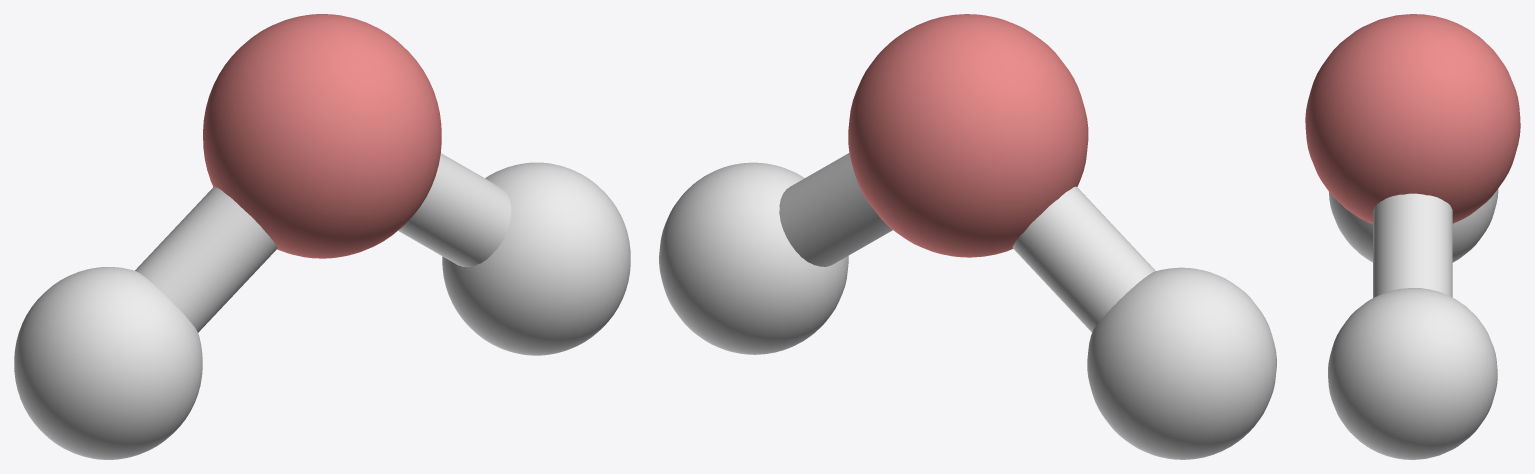
Rendered from Water.fbx.
3 views of the same model, side by side, from view 1: azimuth 30°, elevation 25°; view 2: azimuth 150°, elevation 25°; view 3: azimuth 270°, elevation 25° (orthographic). The views are drawn at different scales.
Visible parts, largest first — view 1: Oxygen; view 2: Oxygen; view 3: Oxygen.
Boxes of the visible parts, x1,y1,x2,y2 form: Oxygen: [14, 14, 630, 459]; Oxygen: [659, 14, 1276, 459]; Oxygen: [1305, 14, 1520, 459].
Bounding box in the file's own units: 211 × 127 × 74.14.
